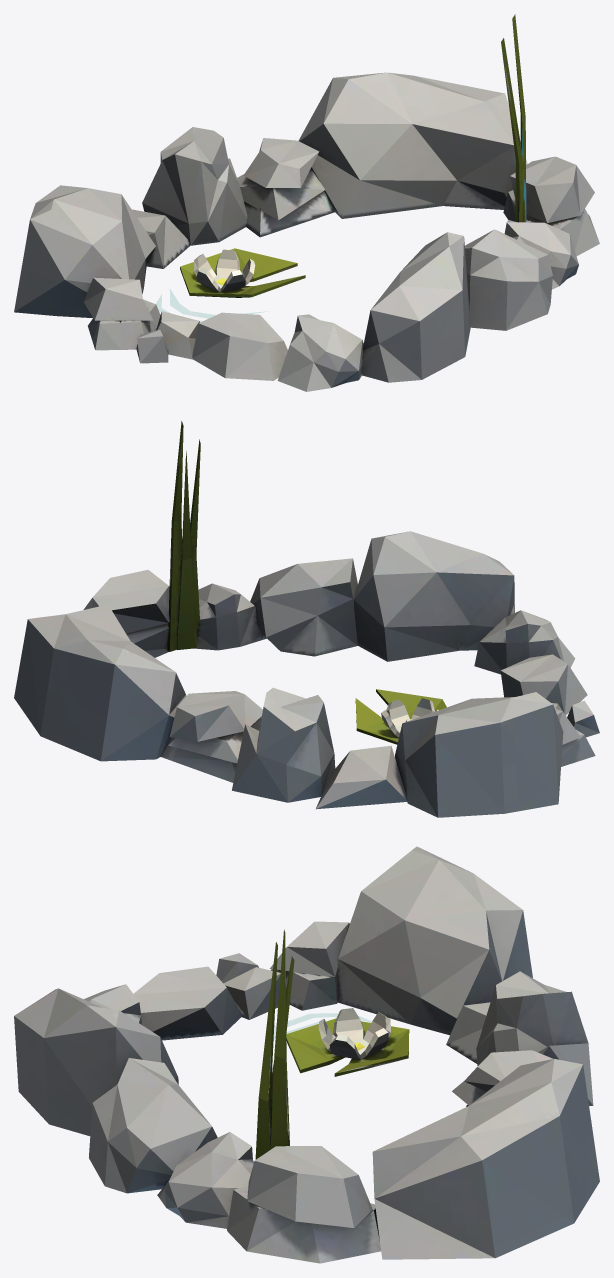
Rendered from env-pond.glb.
3 views of the same model, one above another, from view 1: azimuth 30°, elevation 25°; view 2: azimuth 150°, elevation 25°; view 3: azimuth 270°, elevation 25° (orthographic). The views are drawn at different scales.
Parts seen in each view (by area): view 1: pond; view 2: pond; view 3: pond.
Boxes of the visible parts, <box> form: pond: <box>14,14,599,391</box>; pond: <box>14,421,599,817</box>; pond: <box>14,846,599,1263</box>.
Bounding box in the file's own units: 2.19 × 0.929 × 1.75.
1 material, 1 textured.
